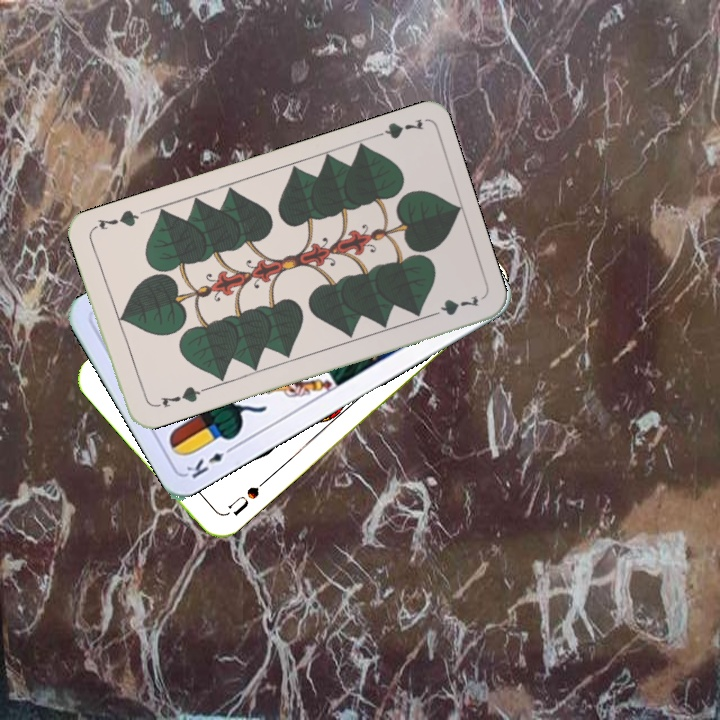EK: (182, 441, 238, 481)
G7: (148, 382, 206, 411), (366, 114, 426, 142)
SU: (224, 475, 270, 518)
